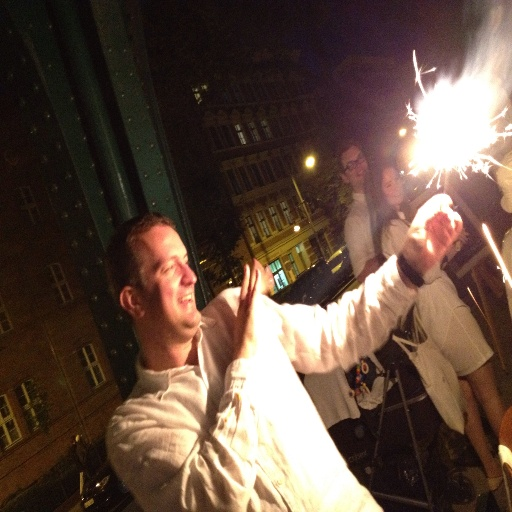hand: (398, 191, 462, 276), (224, 277, 261, 351)
